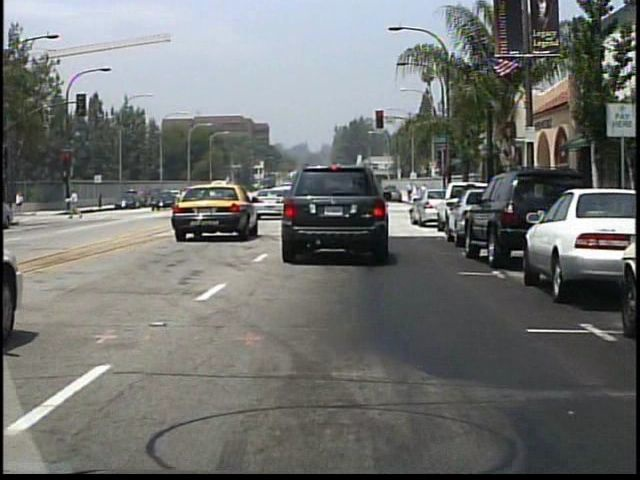person: (405, 182, 425, 216), (68, 186, 83, 221), (14, 189, 26, 215)
